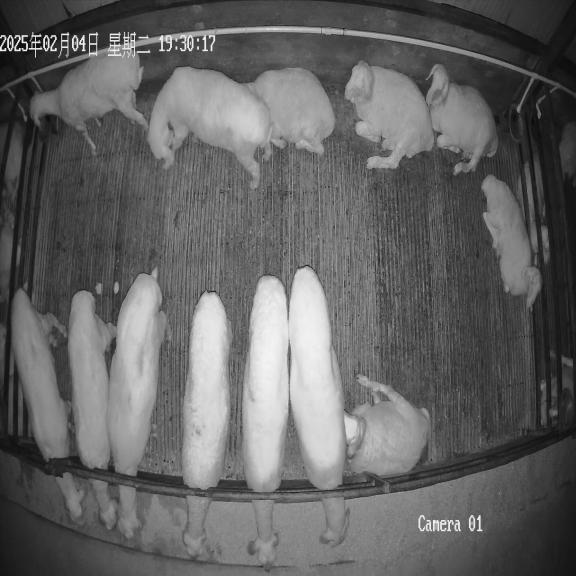eating: (288, 266, 350, 546), (11, 288, 85, 520), (108, 268, 171, 538), (241, 275, 289, 566), (182, 291, 232, 558), (67, 290, 117, 529)
lying: (344, 61, 434, 169), (344, 375, 431, 476), (426, 64, 498, 175), (482, 174, 541, 309), (244, 68, 335, 155)
stand: (147, 66, 272, 189), (29, 54, 148, 155)
